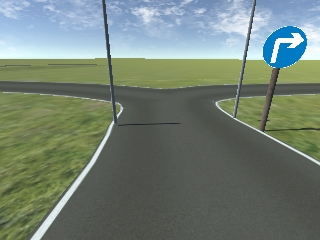right: (262, 26, 308, 68)
